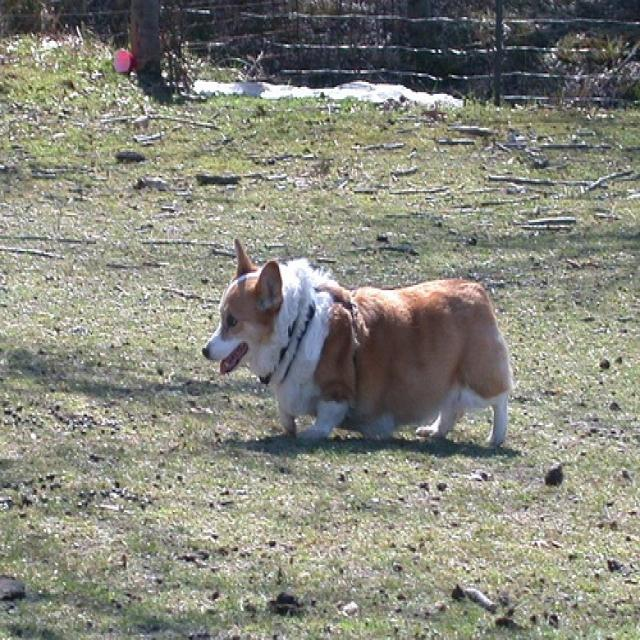dog: (204, 239, 512, 452)
